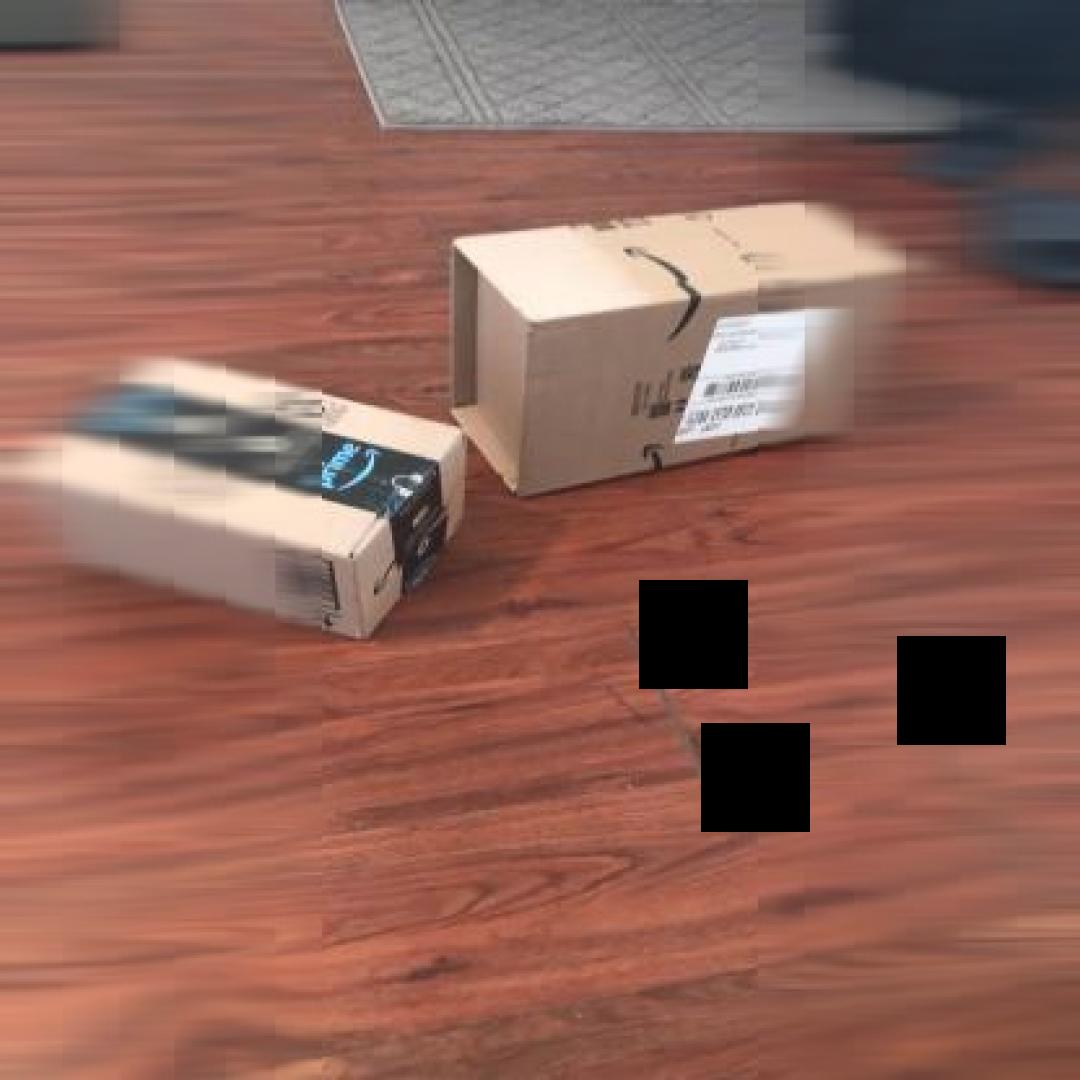package: (2, 340, 483, 654), (446, 194, 922, 506)
